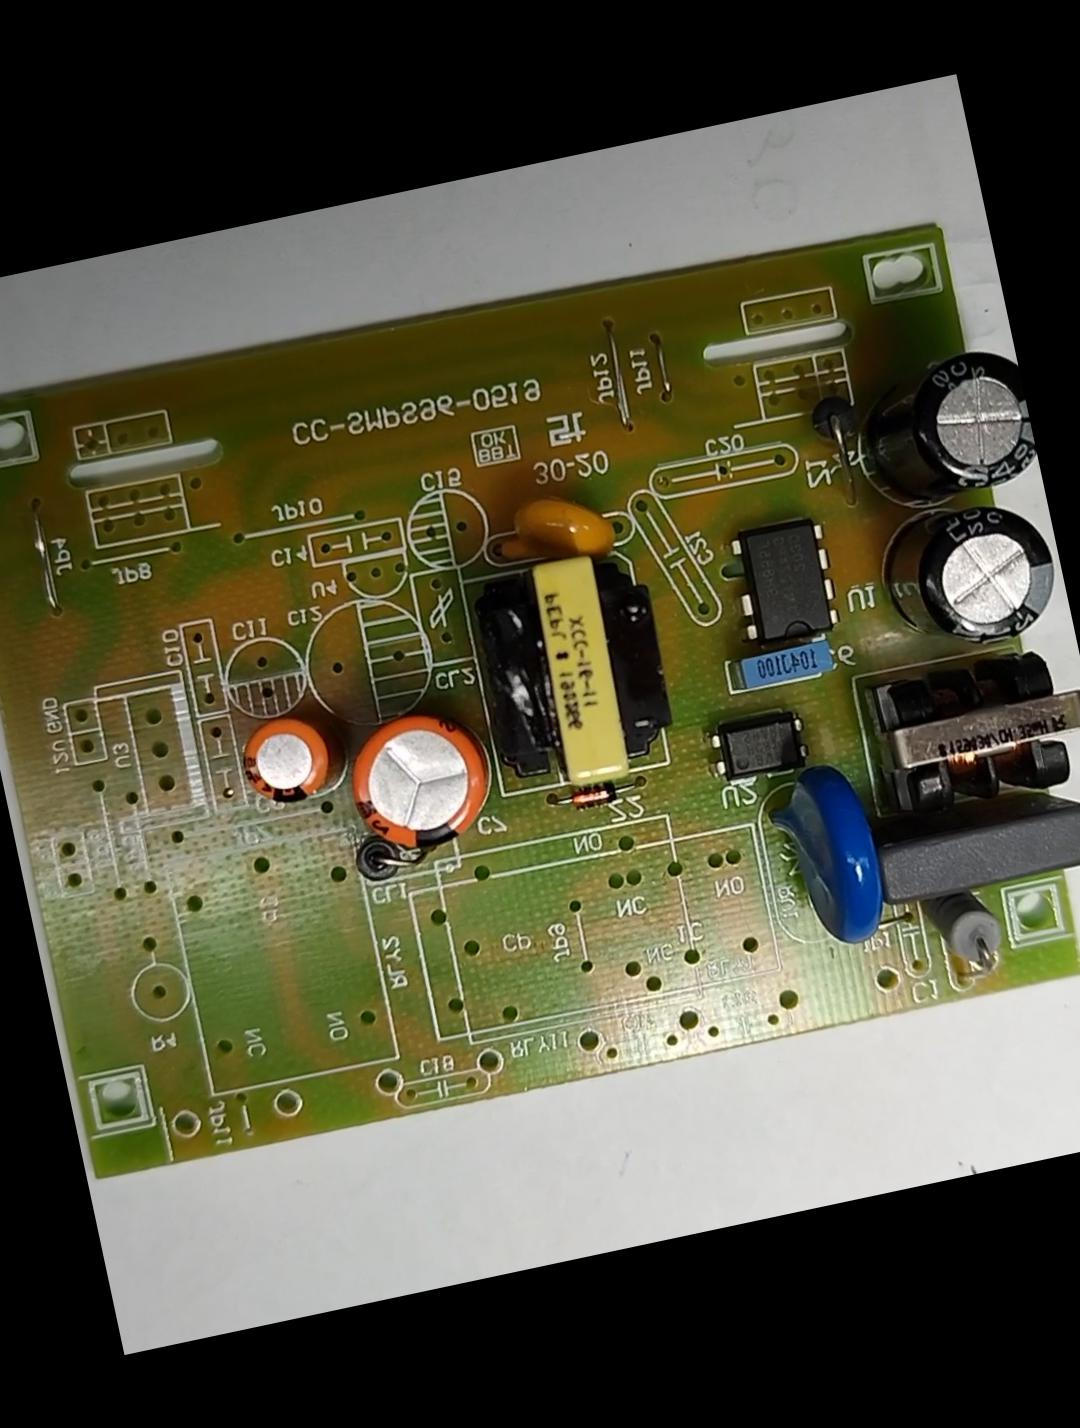Cap1: (338, 699, 500, 861)
Cap2: (233, 710, 339, 812)
Cap3: (871, 491, 1068, 656)
Cap4: (836, 339, 1043, 521)
MOSFET: (719, 512, 843, 654)
Mov: (763, 751, 896, 957)
Resistor: (917, 884, 1011, 977)
Transformer: (463, 539, 684, 799), (859, 636, 1079, 828)
